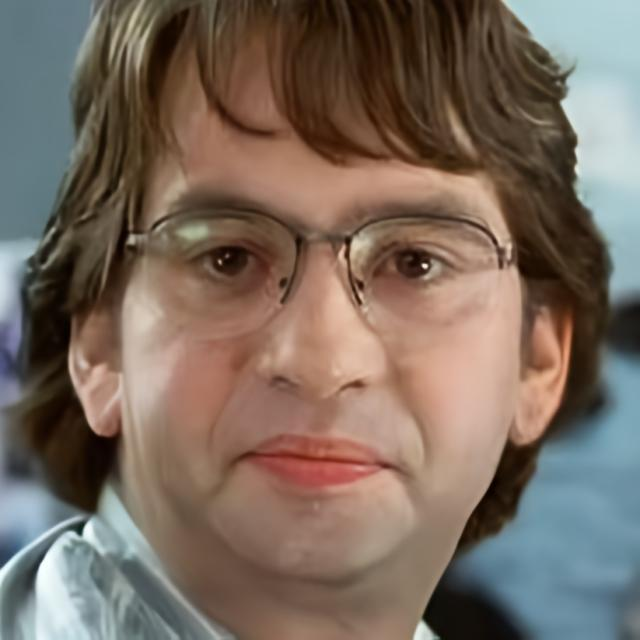neutral: (122, 24, 520, 582)
